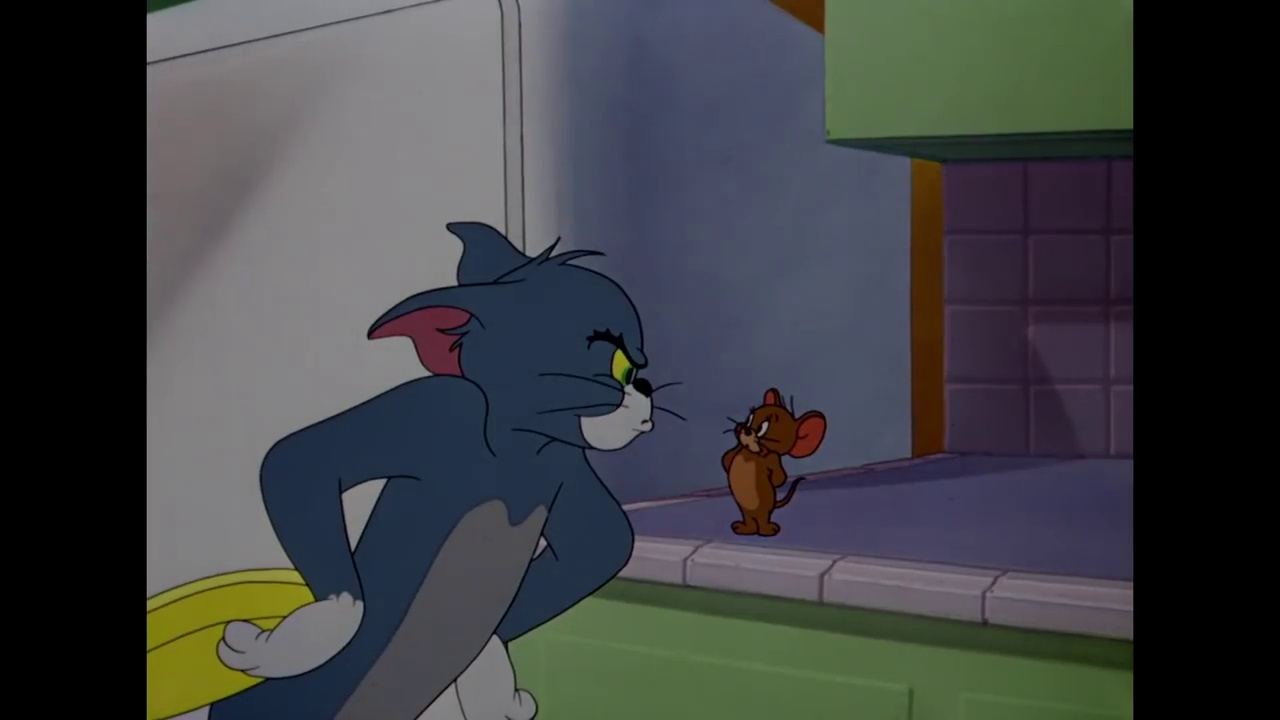tom: (367, 219, 659, 455)
